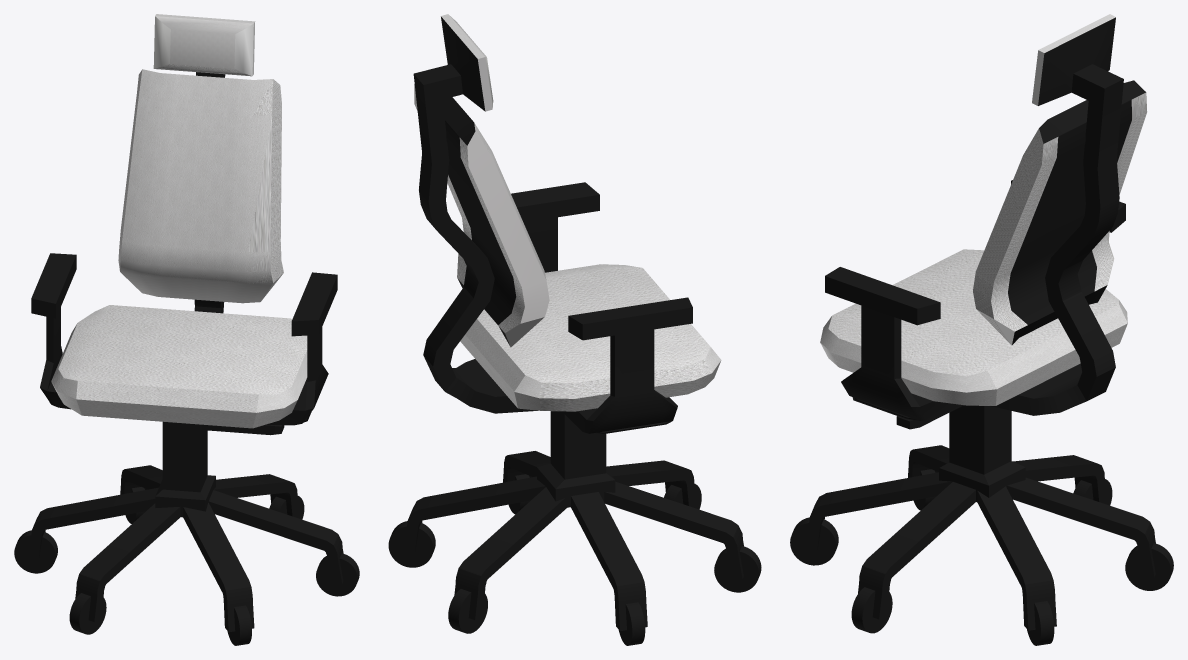
Rendered from chair.glb.
3 views of the same model, side by side, from view 1: azimuth 30°, elevation 25°; view 2: azimuth 150°, elevation 25°; view 3: azimuth 270°, elevation 25° (orthographic). The views are drawn at different scales.
Parts seen in each view (by area): view 1: Cube_Cube.001_10; view 2: Cube_Cube.001_10; view 3: Cube_Cube.001_10.
Part boxes in pixels (<box>): Cube_Cube.001_10: <box>14,14,359,645</box>; Cube_Cube.001_10: <box>388,14,761,645</box>; Cube_Cube.001_10: <box>790,14,1173,645</box>.
Bounding box in the file's own units: 2.42 × 4.17 × 2.52.
2 materials, 1 textured.
